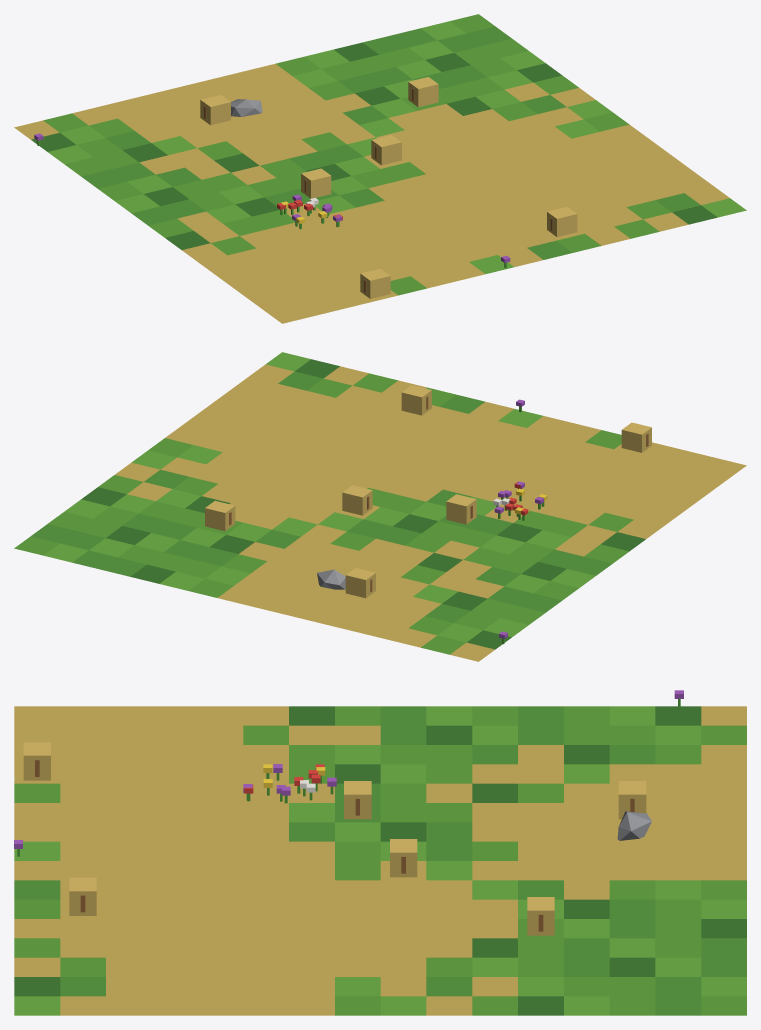
The model's file is chunk_9_8.glb.
3 views of the same model, one above another, from view 1: azimuth 30°, elevation 25°; view 2: azimuth 150°, elevation 25°; view 3: azimuth 270°, elevation 25° (orthographic). The views are drawn at different scales.
Visible parts, largest first — view 1: chunk_9_8; view 2: chunk_9_8; view 3: chunk_9_8.
Part boxes in pixels (left/top/right/bottom): chunk_9_8: left=14, top=14, right=746, bottom=323; chunk_9_8: left=14, top=352, right=746, bottom=661; chunk_9_8: left=14, top=690, right=746, bottom=1015.
Bounding box in the file's own units: 16.1 × 0.7873 × 16.01.
